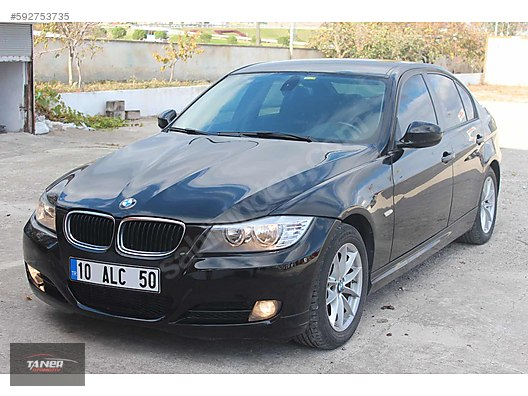bmw: (17, 55, 507, 353)
